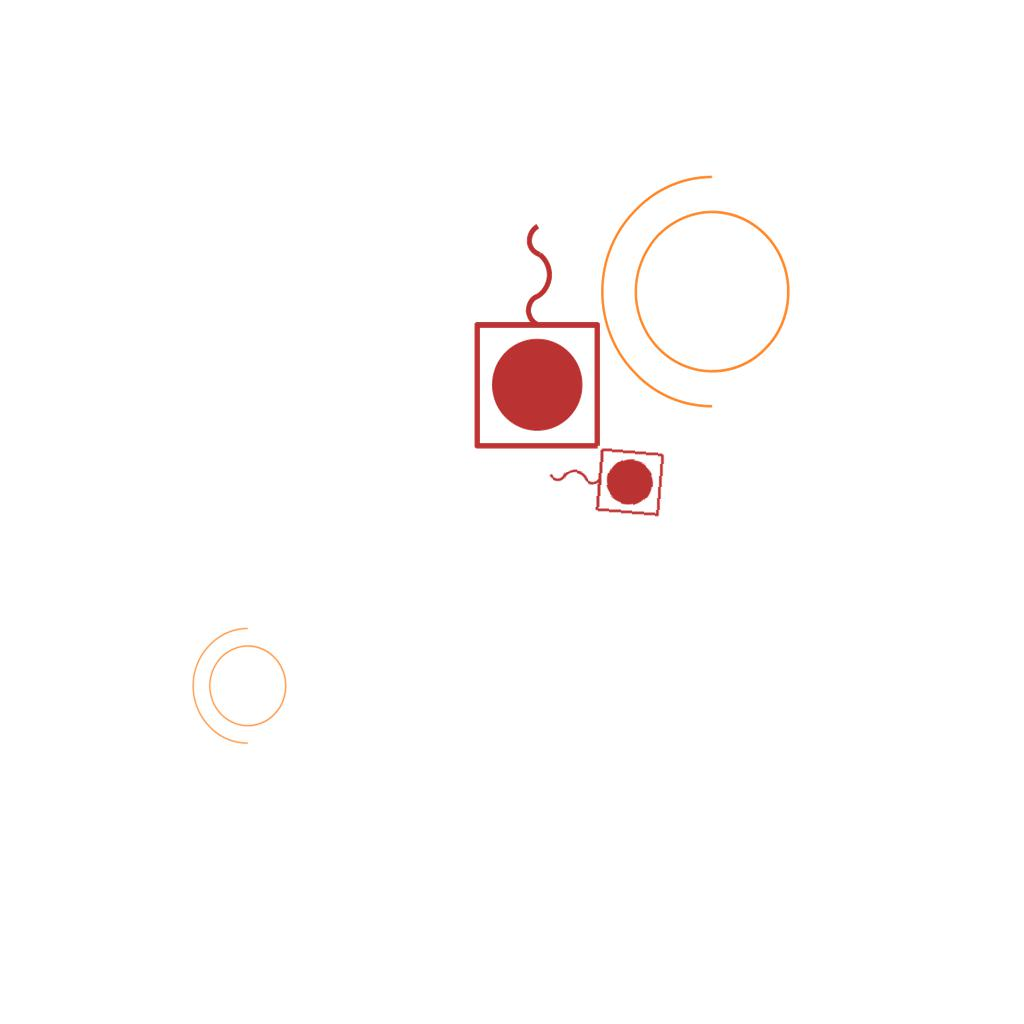Scheinwerfer_fuer_Alarmbeleuchtung: (590, 166, 815, 430), (187, 623, 299, 755)
Zugtaster: (467, 213, 611, 457), (541, 437, 669, 521)
